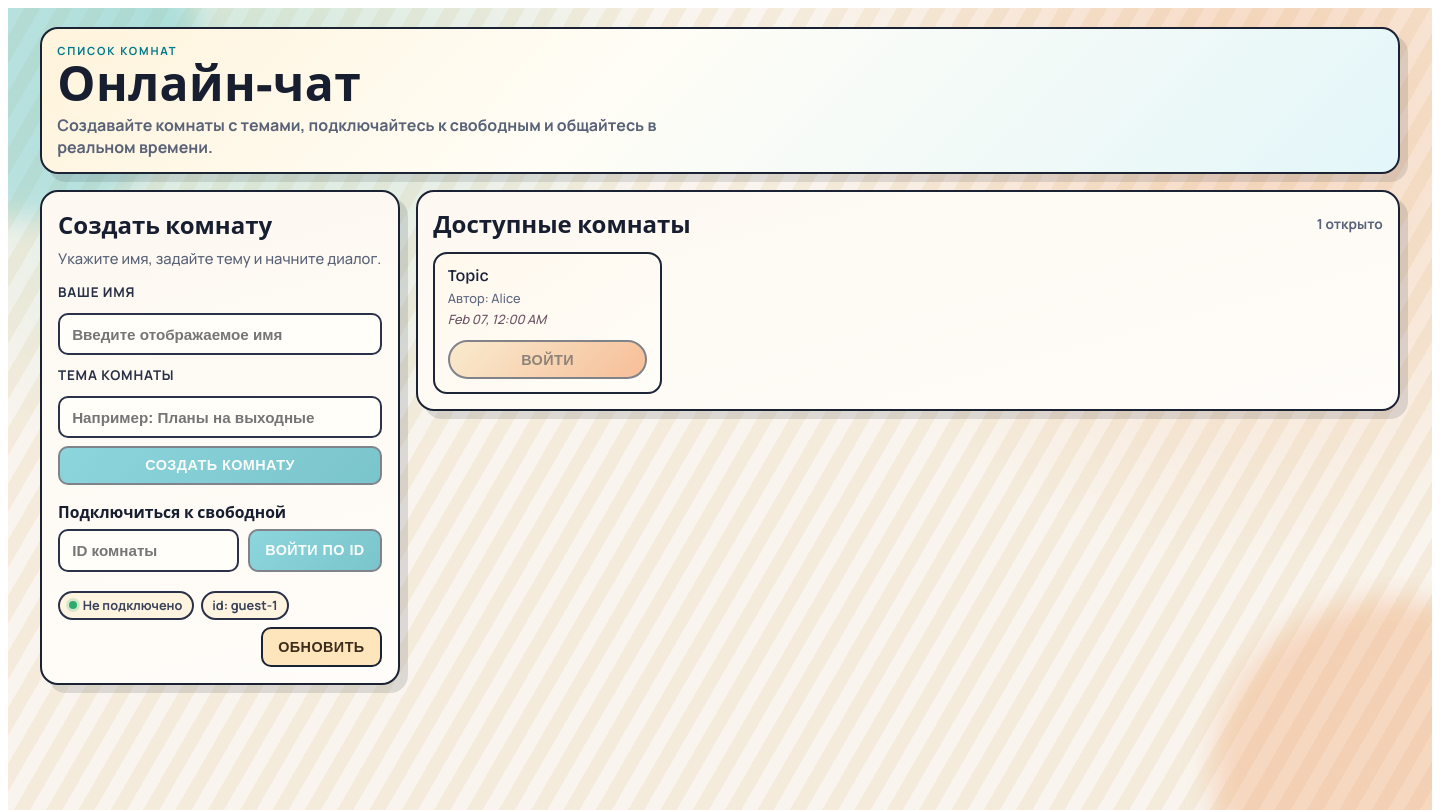
Test: App › renders safe formatted message content
In the field with id "user-name": (220, 334) 58,313 -> 382,355, type "Bob"
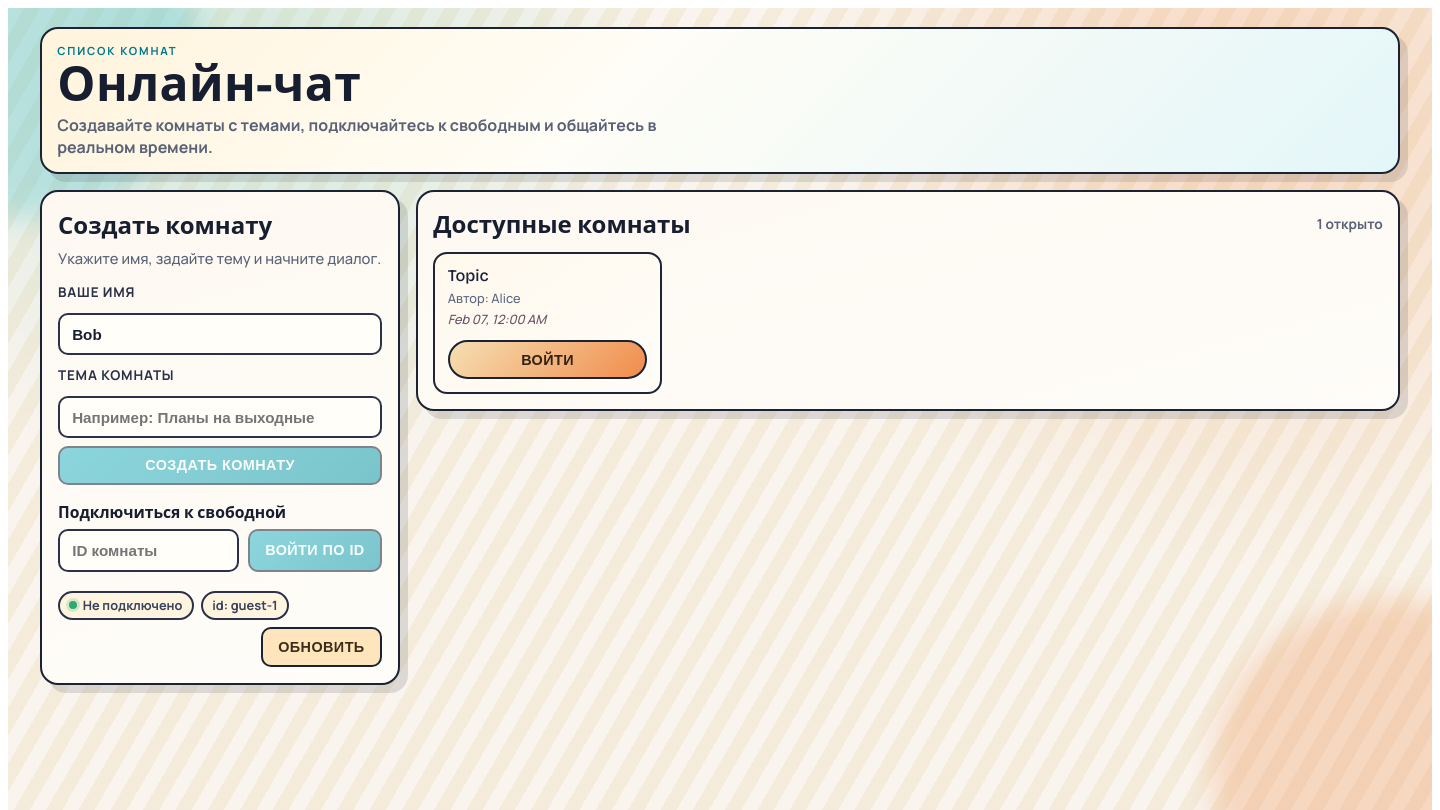
Click the button "Войти": (548, 360) 448,340 -> 648,379
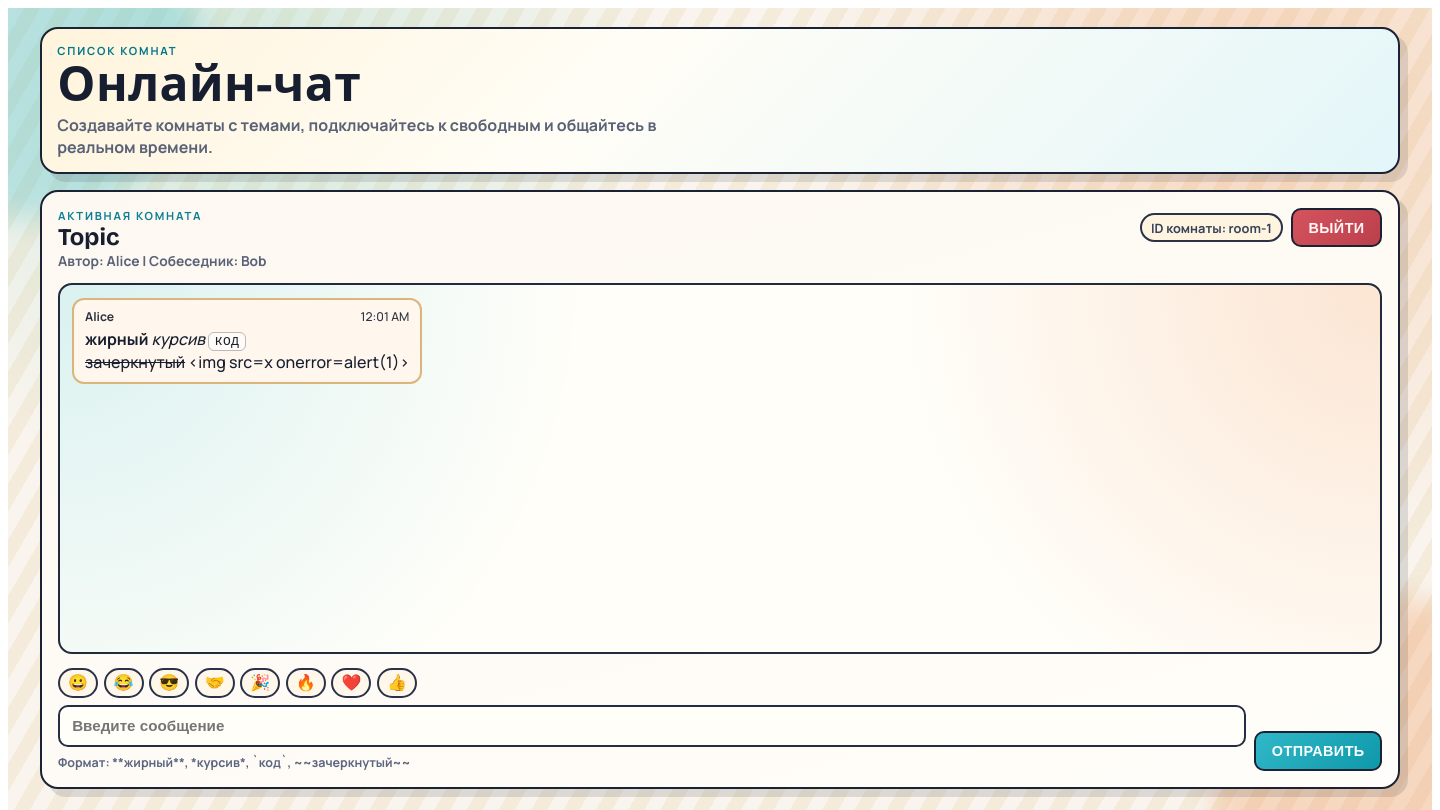
Expected: the text "жирный" is shown, 85,328 -> 148,350
Expected: the text "курсив" is shown, 152,328 -> 205,350
Expected: the text "код" is shown, 208,332 -> 246,351
